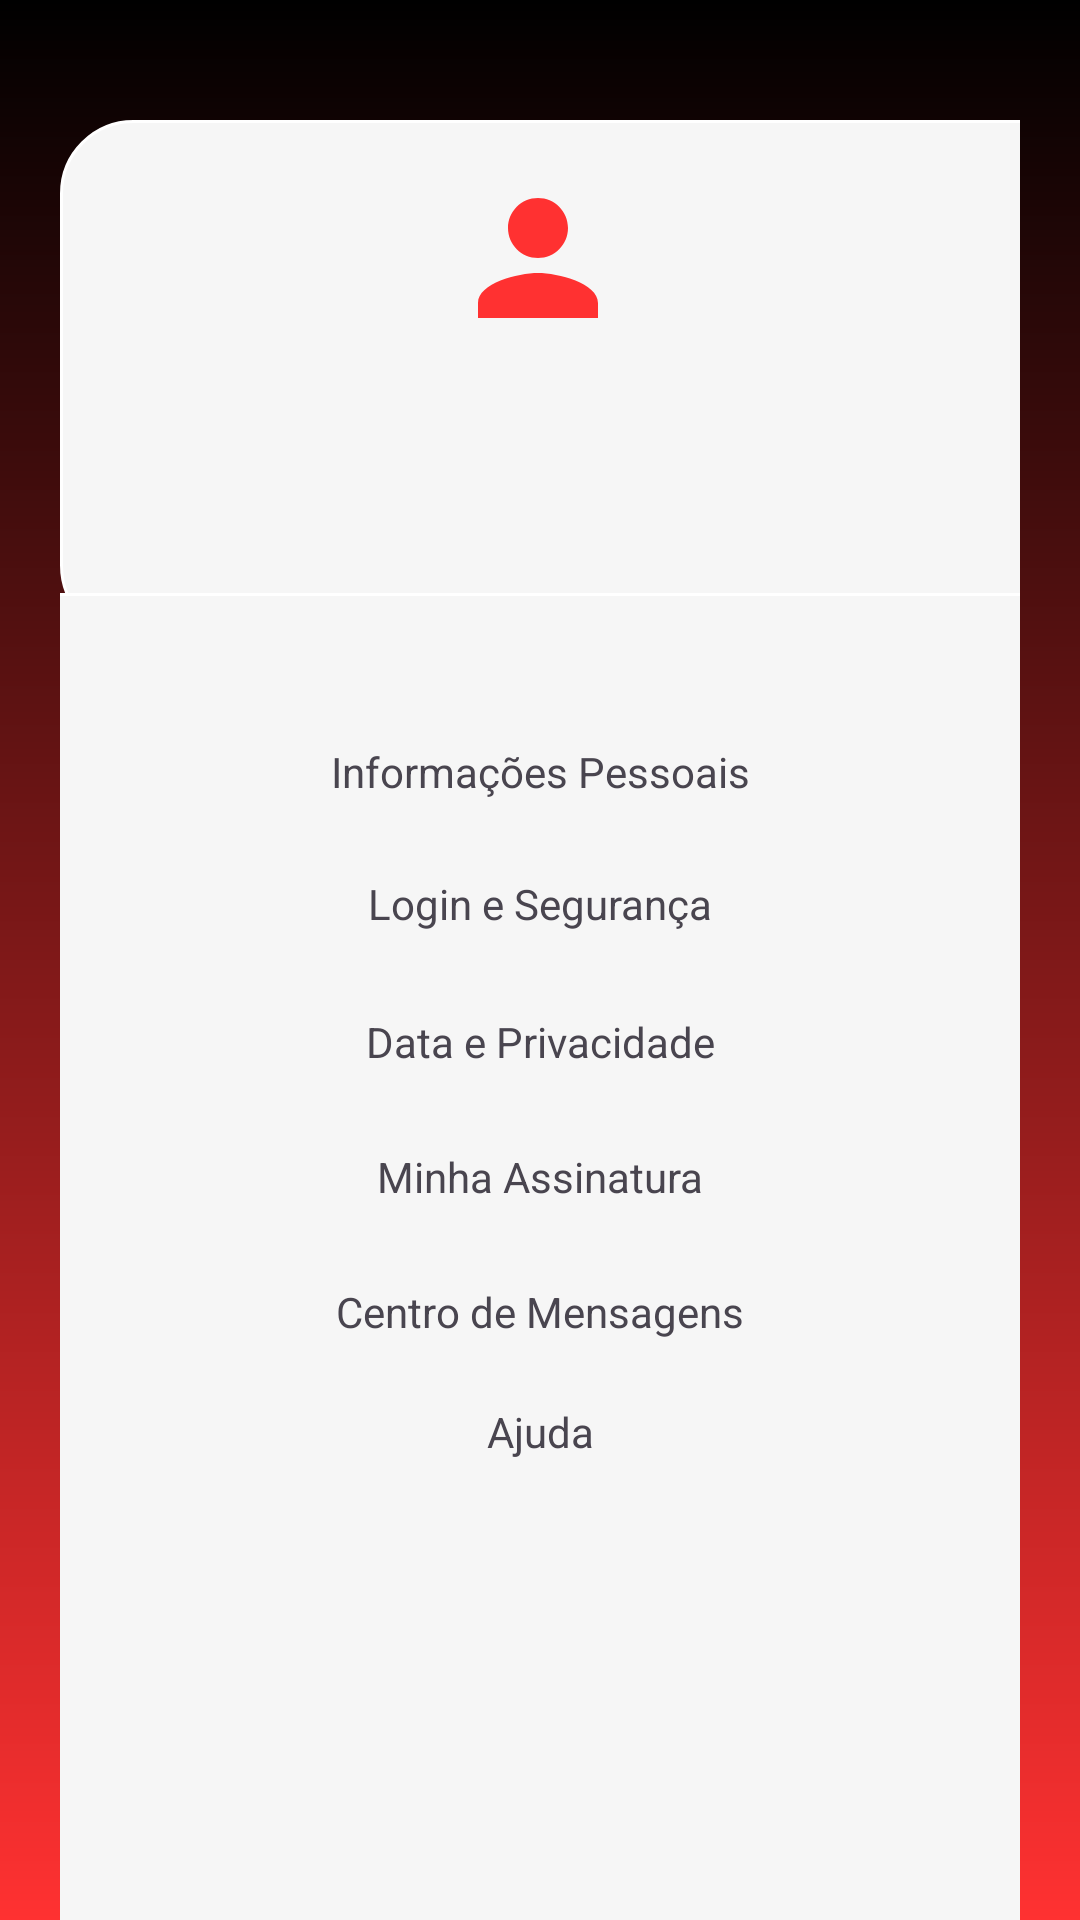

Screen size 1080×1920. Icon name, then its box in pixels as (x1, y1, x2, y2):
person: (478, 198, 598, 318)
